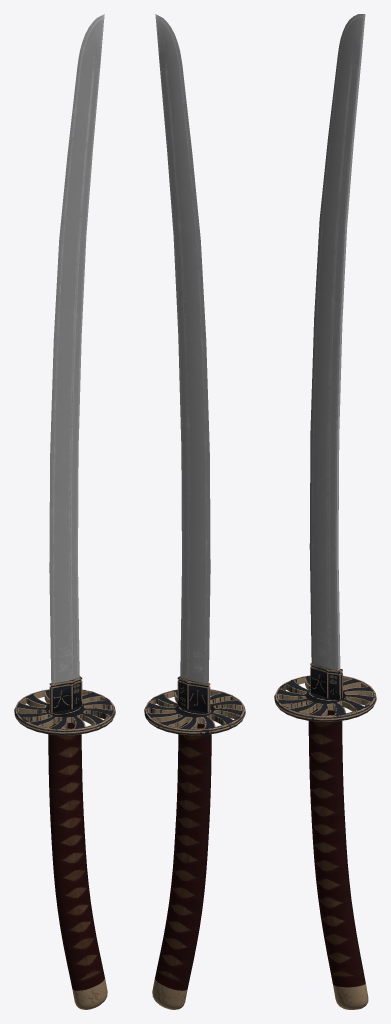
The model's file is antique_katana_01.glb.
The picture shows the model from 3 angles, left to right: view 1: azimuth 30°, elevation 25°; view 2: azimuth 150°, elevation 25°; view 3: azimuth 330°, elevation 25°; orthographic projection.
Parts seen in each view (by area): view 1: antique_katana_01; view 2: antique_katana_01; view 3: antique_katana_01.
Boxes of the visible parts, bbox=[...] form: antique_katana_01: bbox=[14, 14, 115, 1009]; antique_katana_01: bbox=[144, 14, 245, 1009]; antique_katana_01: bbox=[274, 14, 376, 1009].
Bounding box in the file's own units: 0.0934 × 1 × 0.0934.
1 material, 1 textured.
